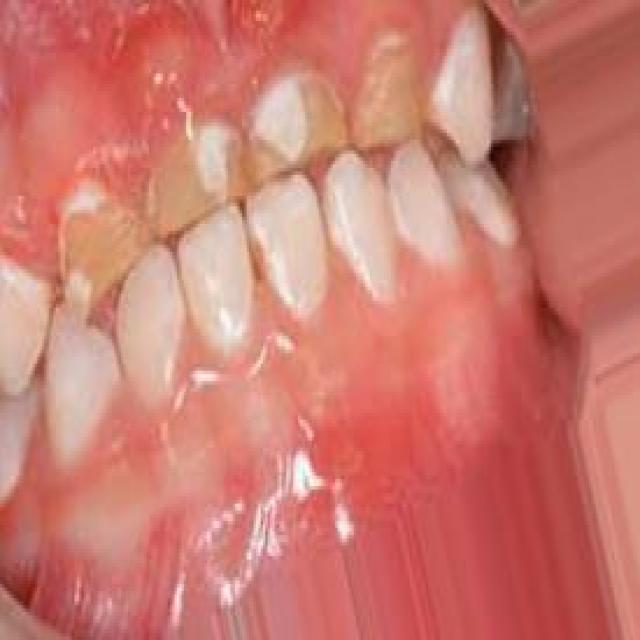caries: (51, 180, 147, 323), (138, 115, 241, 234), (247, 70, 353, 184)
